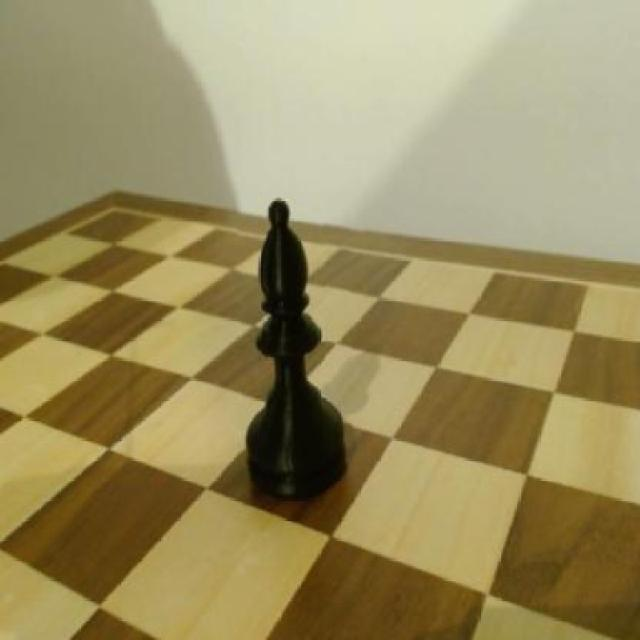bishop: (240, 192, 354, 506)
